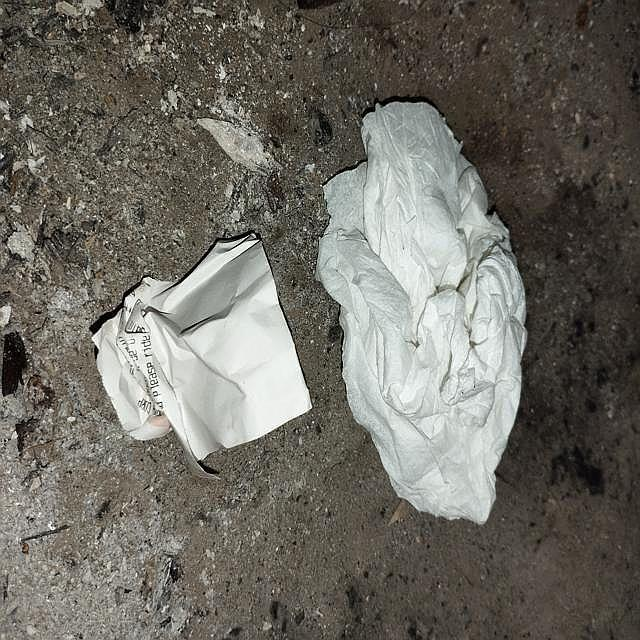Biodegradable: (321, 101, 529, 524), (93, 232, 313, 458)
